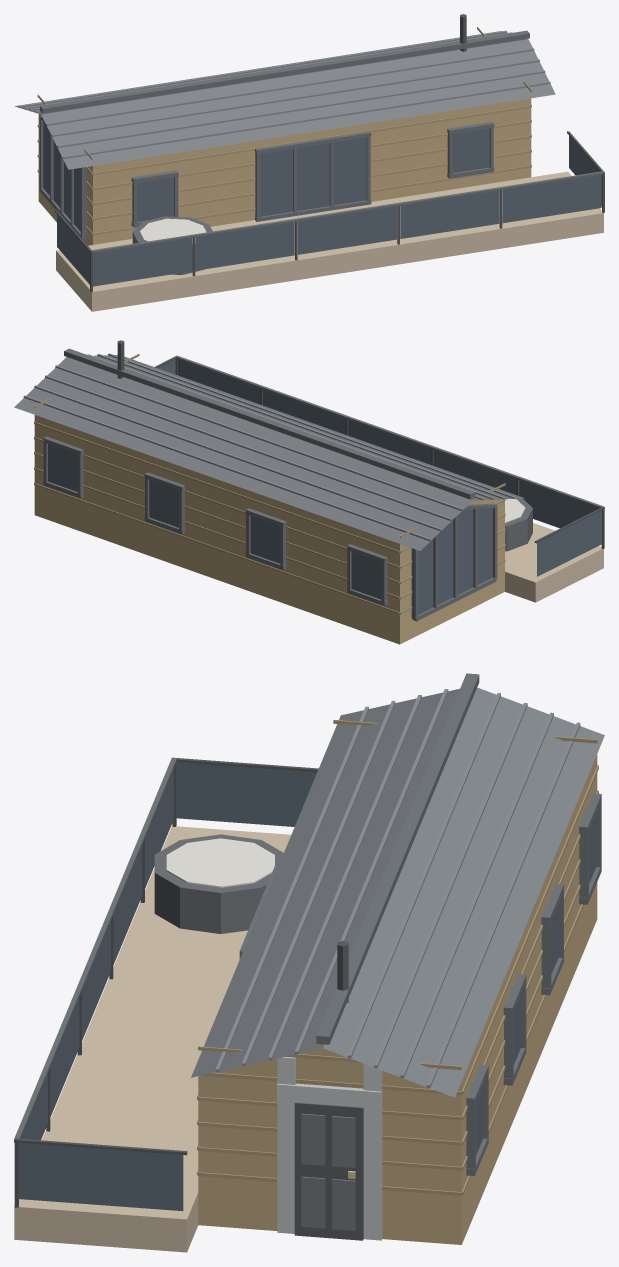
The picture shows the model from 3 angles, top to bottom: view 1: azimuth 30°, elevation 25°; view 2: azimuth 150°, elevation 25°; view 3: azimuth 270°, elevation 25°; orthographic projection. The views are drawn at different scales.
Visible parts, largest first — view 1: slate, door_wood, larch, slate_dk, slate_lt, door_wood_p, window_glass_002, window_glass_001, window_glass_005, window_glass_004, window_glass_003, window_glass_008 (+10 smaller); view 2: door_wood, slate, slate_dk, slate_lt, window_glass_013, door_wood_p, larch, window_glass_006, window_glass_001, window_glass_005, window_glass_003, window_glass_004 (+7 smaller); view 3: slate, larch, door_wood, slate_dk, slate_lt, window_glass_007, door_wood_p, stone_band, window_glass_006, band_dark, door_dark_p, door_dark (+7 smaller).
Boxes of the visible parts, box(x1,y1,x2,y2) form: slate: box(15, 31, 555, 169); door_wood: box(38, 98, 531, 245); larch: box(56, 171, 603, 311); slate_dk: box(39, 30, 603, 253); slate_lt: box(19, 30, 550, 158); door_wood_p: box(37, 27, 531, 235); window_glass_002: box(195, 222, 294, 270); window_glass_001: box(93, 238, 192, 286); window_glass_005: box(502, 174, 601, 223); window_glass_004: box(400, 190, 499, 238); window_glass_003: box(298, 206, 396, 254); window_glass_008: box(260, 149, 292, 216); door_wood: box(34, 415, 504, 644); slate: box(14, 354, 524, 550); slate_dk: box(43, 348, 603, 621); slate_lt: box(23, 353, 515, 541); window_glass_013: box(418, 508, 492, 614); door_wood_p: box(34, 354, 505, 614); larch: box(505, 523, 603, 602); window_glass_006: box(537, 510, 602, 576); window_glass_001: box(519, 480, 598, 528); window_glass_005: box(177, 359, 260, 404); window_glass_003: box(348, 420, 430, 464); window_glass_004: box(263, 389, 345, 434); slate: box(191, 687, 604, 1097); larch: box(14, 826, 290, 1252); door_wood: box(198, 754, 597, 1244); slate_dk: box(14, 673, 601, 1175); slate_lt: box(215, 689, 580, 1087); window_glass_007: box(18, 1143, 183, 1211); door_wood_p: box(197, 720, 598, 1195); stone_band: box(277, 1057, 382, 1240); window_glass_006: box(176, 762, 316, 826); band_dark: box(154, 834, 283, 933); door_dark_p: box(301, 1113, 355, 1230); door_dark: box(294, 1102, 363, 1240).
Size of the model in its own units: 13.12 by 3.95 by 8.09.
